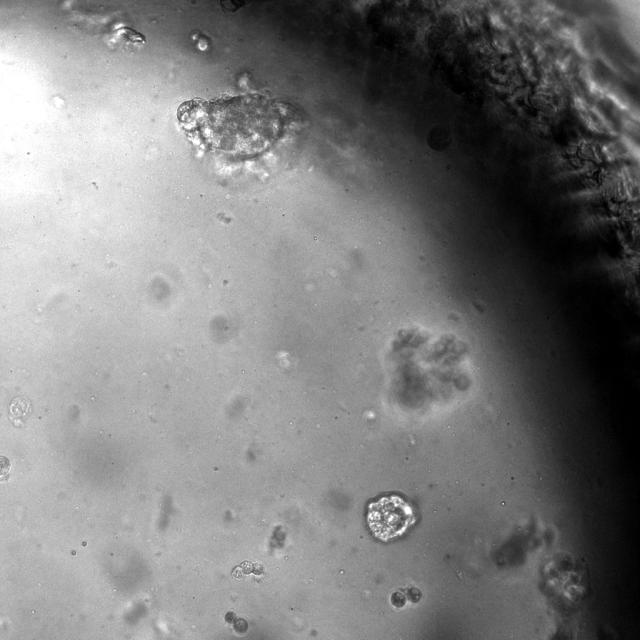organoid: (177, 70, 309, 182), (383, 324, 471, 416), (539, 552, 588, 615), (364, 492, 418, 543), (8, 396, 31, 428), (391, 586, 422, 609), (232, 560, 265, 579), (225, 611, 248, 634), (190, 29, 210, 51), (0, 455, 11, 480)
